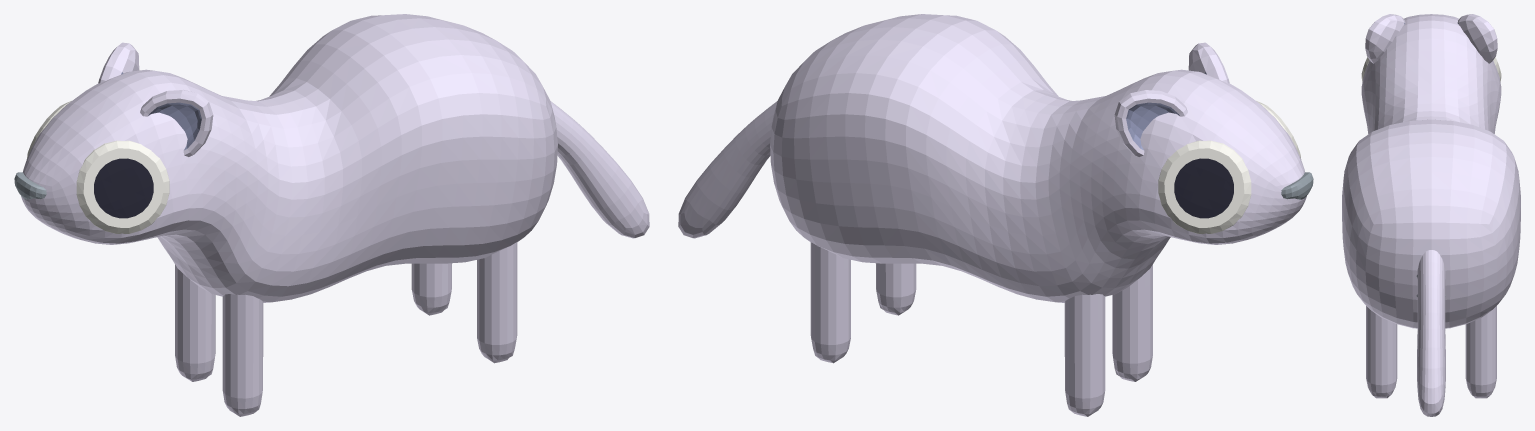
File: SnowWeasel_LOD0.fbx
3 renders of one model, left to right at view 1: azimuth 30°, elevation 25°; view 2: azimuth 150°, elevation 25°; view 3: azimuth 270°, elevation 25°, orthographic. The views are drawn at different scales.
Visible parts, largest first — view 1: Mesh; view 2: Mesh; view 3: Mesh.
Part boxes in pixels (left/top/right/bottom): Mesh: left=14, top=14, right=649, bottom=416; Mesh: left=678, top=14, right=1313, bottom=416; Mesh: left=1342, top=14, right=1520, bottom=416.
Size of the model in its own units: 249 by 130 by 80.19.
1 material, 1 textured.
